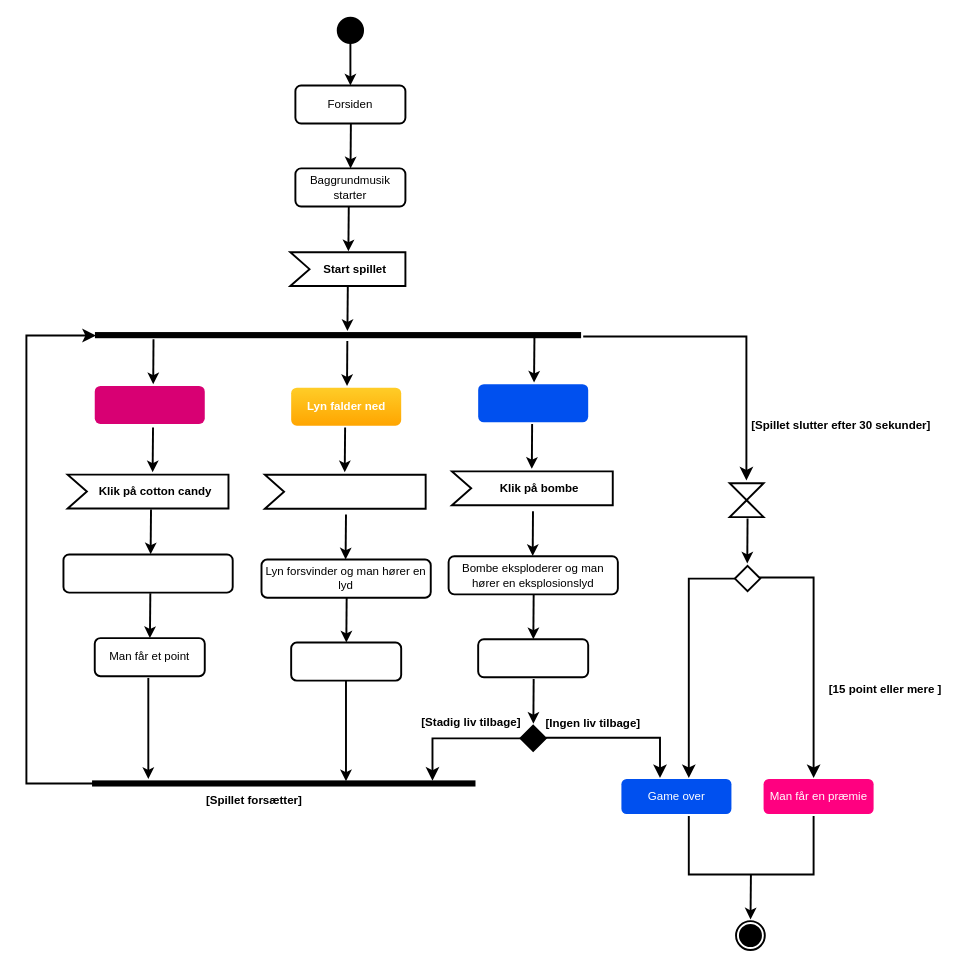
Some shapes in this 964 by 967 pixel diagram are drawn without their labels. Here are the shapes that lost their labels. From the top down, the centre of each, then its label:
At point 149,404: "Cotton candy falder ned".
At point 533,403: "Bombe falder ned".
At point 344,491: "Klik på lyn".
At point 147,573: "Cotton candy forsvinder og man hører en lyd".
At point 346,661: "Man mister et point".
At point 533,658: "Man mister et liv".
